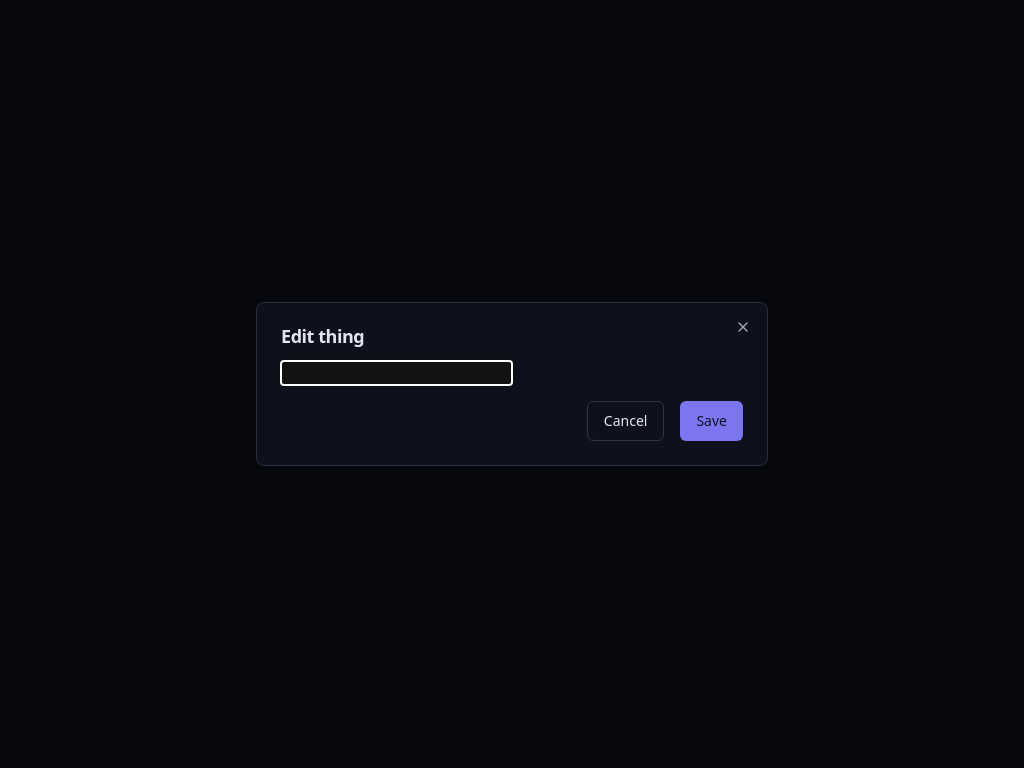
Scenario: CrudDialog › blocks submit on validation error
Click the button "Save": (712, 421) [680,401,743,441]
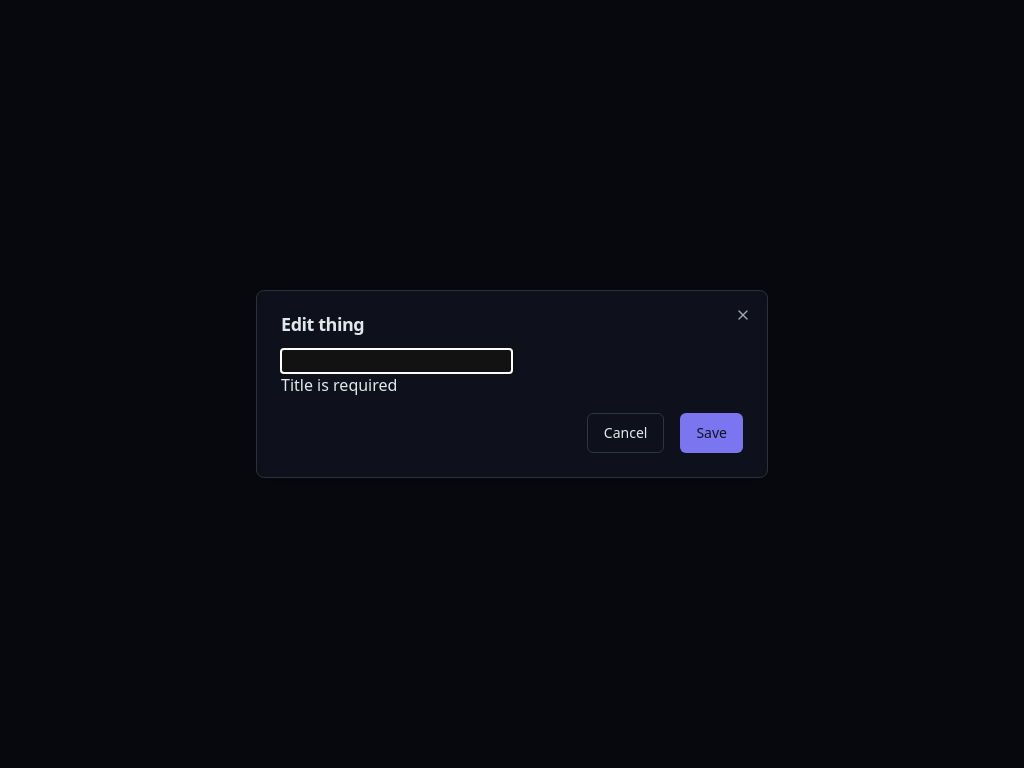
Expected: the text "Title is required" is shown, [281,374,397,396]
